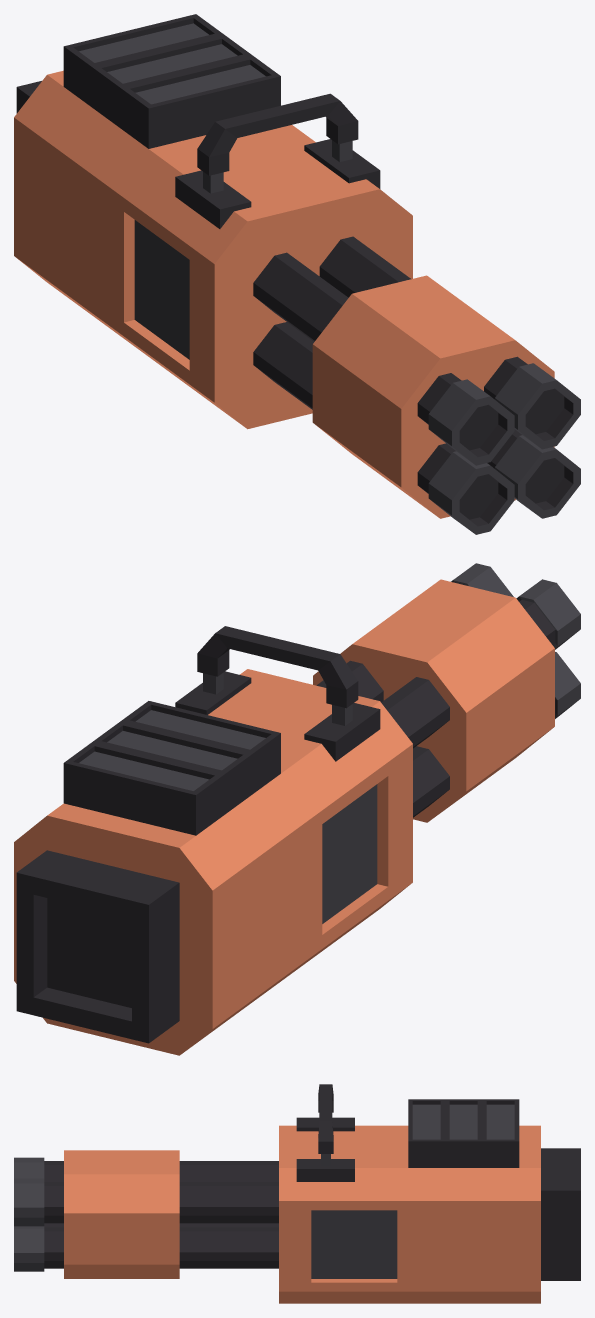
The model's file is MachineGun.fbx.
The picture shows the model from 3 angles, top to bottom: view 1: azimuth 30°, elevation 25°; view 2: azimuth 150°, elevation 25°; view 3: azimuth 270°, elevation 25°; orthographic projection. The views are drawn at different scales.
Visible parts, largest first — view 1: Cylinder.003, Cylinder.004; view 2: Cylinder.003, Cylinder.004; view 3: Cylinder.003, Cylinder.004.
Boxes of the visible parts, bbox=[...] form: Cylinder.003: bbox=[14, 14, 412, 429]; Cylinder.004: bbox=[253, 236, 580, 534]; Cylinder.003: bbox=[14, 626, 412, 1055]; Cylinder.004: bbox=[313, 563, 580, 822]; Cylinder.003: bbox=[279, 1084, 580, 1303]; Cylinder.004: bbox=[14, 1150, 278, 1278].
Bounding box in the file's own units: 32.49 × 43.07 × 123.
